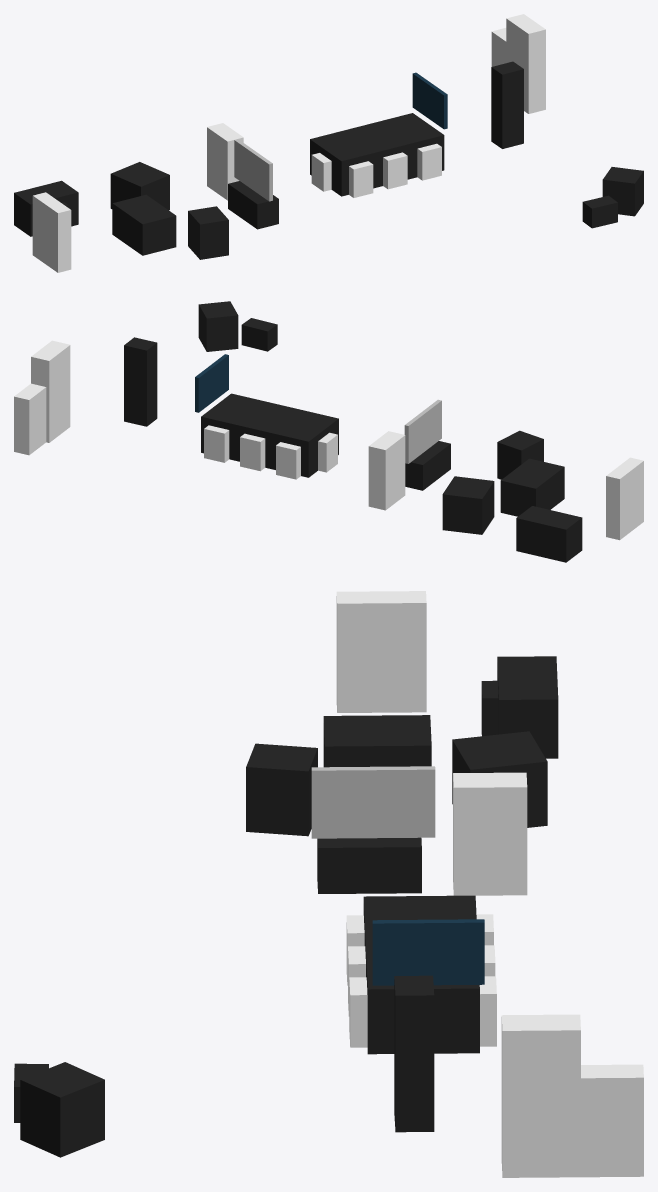
File: interior.obj
The picture shows the model from 3 angles, top to bottom: view 1: azimuth 30°, elevation 25°; view 2: azimuth 150°, elevation 25°; view 3: azimuth 270°, elevation 25°; orthographic projection. The views are drawn at different scales.
Visible parts, largest first — view 1: Table1.001_mat1_Table1.001, Sofa2.001_mat1_Sofa2.001, Storage1.001_mat2_Storage1.001, Storage4.001_mat2_Storage4.001, Storage3.001_mat1_Storage3.001, Sofa0.001_mat1_Sofa0.001, Chair0.001_ma1_Chair0.001, Storage2.001_mat2_Storage2.001, Storage0.001_mat1_Storage0.001, Table2.001_mat1_Table2.001, Sofa1.001_mat1_Sofa1.001, Television1.001_mat4_Television1.001 (+7 smaller); view 2: Table1.001_mat1_Table1.001, Table2.001_mat1_Table2.001, Sofa2.001_mat1_Sofa2.001, Storage1.001_mat2_Storage1.001, Storage3.001_mat1_Storage3.001, Sofa0.001_mat1_Sofa0.001, Storage4.001_mat2_Storage4.001, Storage2.001_mat2_Storage2.001, Storage5.001_mat2_Storage5.001, Sofa1.001_mat1_Sofa1.001, Television1.001_mat4_Television1.001, Storage0.001_mat1_Storage0.001 (+7 smaller); view 3: Storage1.001_mat2_Storage1.001, Storage4.001_mat2_Storage4.001, Storage2.001_mat2_Storage2.001, Television1.001_mat4_Television1.001, Storage5.001_mat2_Storage5.001, Table1.001_mat1_Table1.001, Television0.001_mat3_Television0.001, Sofa1.001_mat1_Sofa1.001, Storage3.001_mat1_Storage3.001, Chair0.001_ma1_Chair0.001, Storage0.001_mat1_Storage0.001, Sofa2.001_mat1_Sofa2.001 (+5 smaller).
Boxes of the visible parts, x1=… form: Table1.001_mat1_Table1.001: x1=310, y1=113, x2=444, y2=196; Sofa2.001_mat1_Sofa2.001: x1=112, y1=194, x2=176, y2=255; Storage1.001_mat2_Storage1.001: x1=506, y1=14, x2=545, y2=113; Storage4.001_mat2_Storage4.001: x1=32, y1=192, x2=71, y2=272; Storage3.001_mat1_Storage3.001: x1=491, y1=61, x2=523, y2=148; Sofa0.001_mat1_Sofa0.001: x1=110, y1=162, x2=169, y2=210; Chair0.001_ma1_Chair0.001: x1=188, y1=206, x2=228, y2=259; Storage2.001_mat2_Storage2.001: x1=207, y1=123, x2=243, y2=200; Storage0.001_mat1_Storage0.001: x1=228, y1=181, x2=278, y2=229; Table2.001_mat1_Table2.001: x1=14, y1=180, x2=78, y2=236; Sofa1.001_mat1_Sofa1.001: x1=602, y1=167, x2=643, y2=216; Television1.001_mat4_Television1.001: x1=234, y1=139, x2=272, y2=201; Table1.001_mat1_Table1.001: x1=201, y1=393, x2=338, y2=477; Table2.001_mat1_Table2.001: x1=516, y1=506, x2=582, y2=562; Sofa2.001_mat1_Sofa2.001: x1=500, y1=458, x2=564, y2=516; Storage1.001_mat2_Storage1.001: x1=31, y1=340, x2=70, y2=442; Storage3.001_mat1_Storage3.001: x1=124, y1=337, x2=157, y2=426; Sofa0.001_mat1_Sofa0.001: x1=442, y1=476, x2=494, y2=534; Storage4.001_mat2_Storage4.001: x1=606, y1=457, x2=643, y2=540; Storage2.001_mat2_Storage2.001: x1=368, y1=431, x2=405, y2=510; Storage5.001_mat2_Storage5.001: x1=14, y1=383, x2=46, y2=455; Sofa1.001_mat1_Sofa1.001: x1=198, y1=301, x2=238, y2=351; Television1.001_mat4_Television1.001: x1=404, y1=399, x2=441, y2=463; Storage0.001_mat1_Storage0.001: x1=405, y1=441, x2=450, y2=490; Storage1.001_mat2_Storage1.001: x1=501, y1=1014, x2=580, y2=1177; Storage4.001_mat2_Storage4.001: x1=336, y1=591, x2=426, y2=712; Storage2.001_mat2_Storage2.001: x1=453, y1=772, x2=527, y2=895; Television1.001_mat4_Television1.001: x1=311, y1=766, x2=435, y2=838; Storage5.001_mat2_Storage5.001: x1=567, y1=1064, x2=643, y2=1177; Table1.001_mat1_Table1.001: x1=363, y1=895, x2=479, y2=1054; Television0.001_mat3_Television0.001: x1=372, y1=919, x2=484, y2=985; Sofa1.001_mat1_Sofa1.001: x1=20, y1=1062, x2=104, y2=1157; Storage3.001_mat1_Storage3.001: x1=394, y1=975, x2=434, y2=1132; Chair0.001_ma1_Chair0.001: x1=246, y1=743, x2=317, y2=836; Storage0.001_mat1_Storage0.001: x1=317, y1=837, x2=421, y2=893; Sofa2.001_mat1_Sofa2.001: x1=323, y1=715, x2=431, y2=767.
Bounding box in the file's own units: 14.09 × 2.02 × 7.85.
